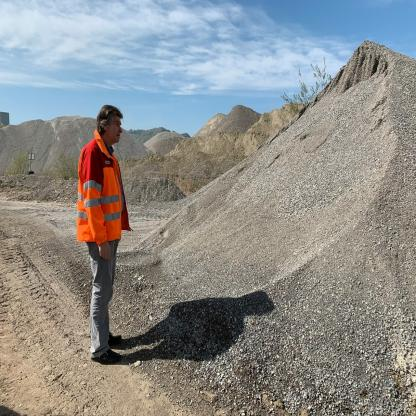person: (66, 101, 132, 370)
